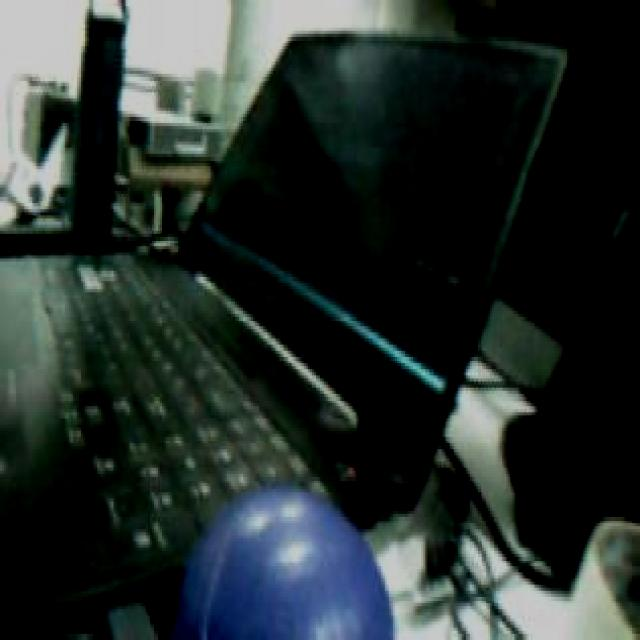BallPurple: (168, 483, 395, 640)
